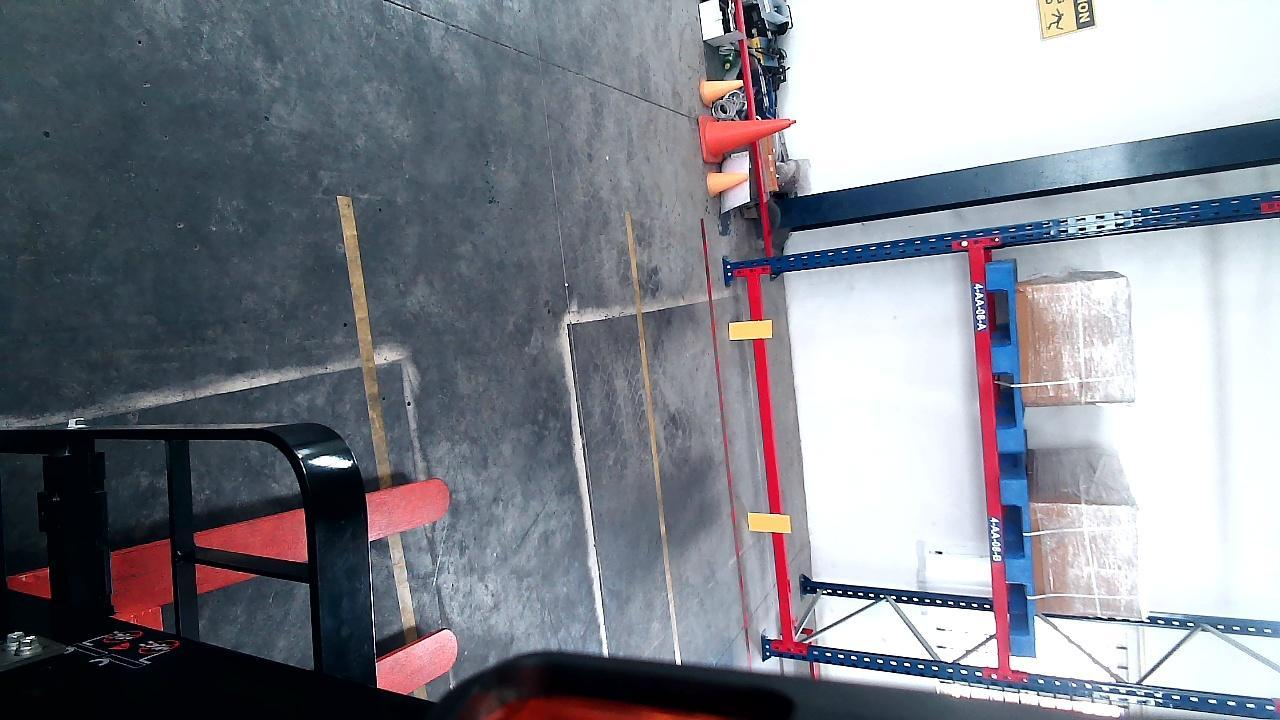red_line: (699, 212, 752, 659)
yellow_line: (340, 194, 415, 647), (622, 203, 675, 635)
